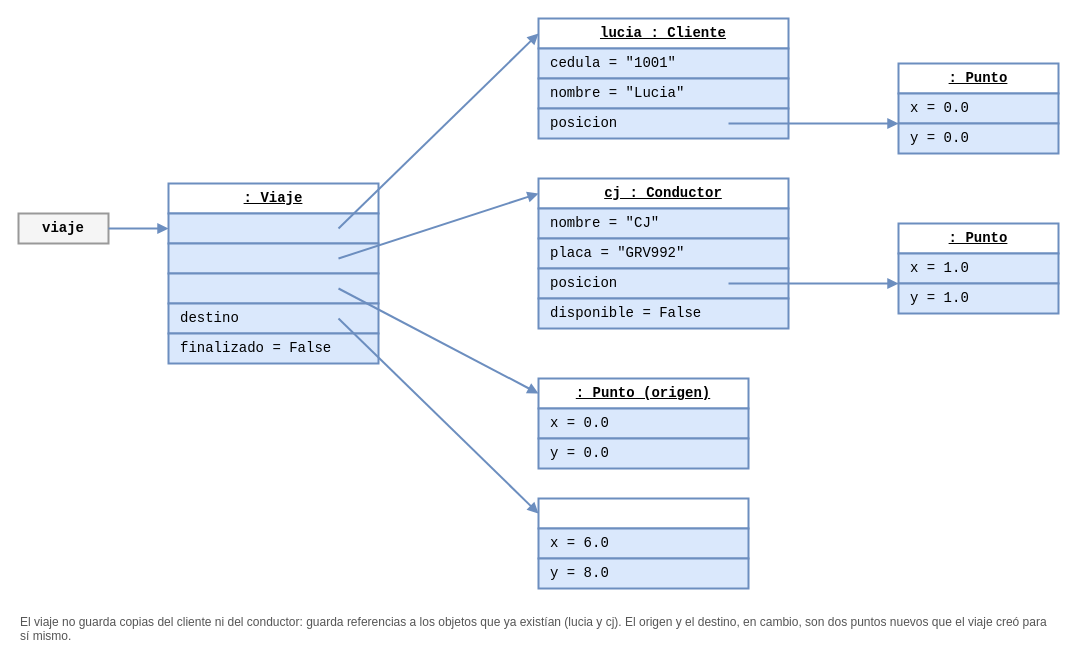
This 1076x671 diagram has some shape labels left out. Each missing label, with the centre of its shape:
": Punto (destino)" goes at point (643, 513).
"cliente" goes at point (273, 228).
"conductor" goes at point (273, 258).
"origen" goes at point (273, 288).
